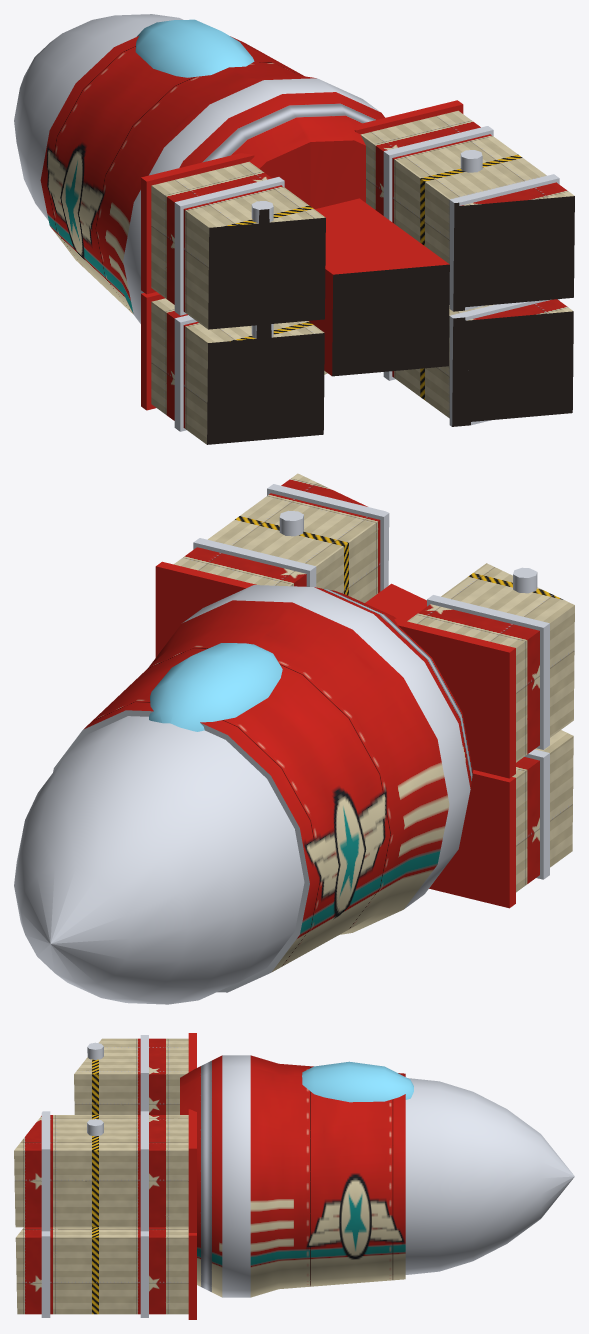
File: supply_ship_debris1.obj
3 views of the same model, one above another, from view 1: azimuth 30°, elevation 25°; view 2: azimuth 150°, elevation 25°; view 3: azimuth 270°, elevation 25° (orthographic). The views are drawn at different scales.
Visible parts, largest first — view 1: container, cab, spine, rib, end_frame, canopy, latch; view 2: cab, container, end_frame, canopy, rib, spine, latch; view 3: cab, container, rib, canopy, end_frame, latch.
Boxes of the visible parts, x1,y1,x2,y2 form: container: [151, 110, 574, 444]; cab: [14, 14, 384, 374]; spine: [309, 198, 449, 376]; rib: [174, 126, 559, 431]; end_frame: [141, 100, 463, 410]; canopy: [135, 19, 254, 77]; latch: [251, 150, 482, 338]; cab: [14, 585, 473, 1004]; container: [174, 473, 574, 892]; end_frame: [155, 561, 515, 908]; canopy: [149, 643, 282, 731]; rib: [193, 484, 549, 879]; spine: [365, 583, 426, 621]; latch: [279, 510, 537, 593]; cab: [180, 1055, 574, 1297]; container: [14, 1038, 188, 1314]; rib: [41, 1035, 148, 1317]; canopy: [302, 1061, 413, 1102]; end_frame: [188, 1033, 196, 1319]; latch: [87, 1042, 103, 1136].
Bounding box in the file's own units: 19.4 × 17.2 × 39.77.
6 materials, 2 textured.
